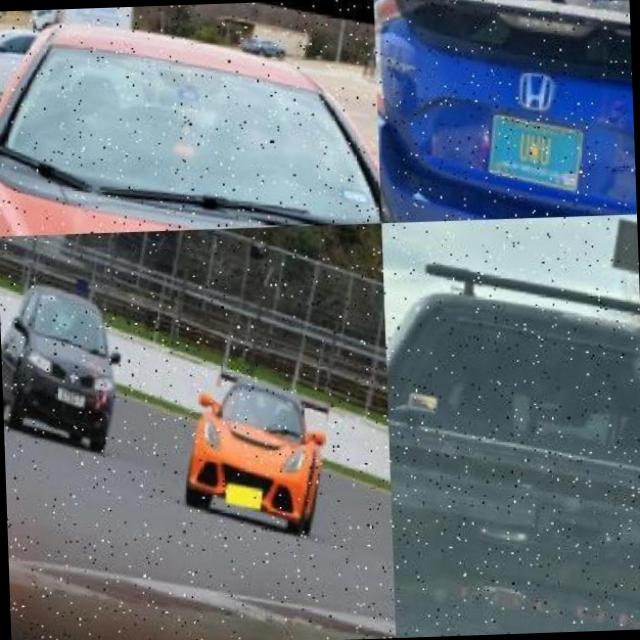LicensePlate: (488, 105, 584, 182), (227, 475, 264, 500), (55, 383, 84, 402)
